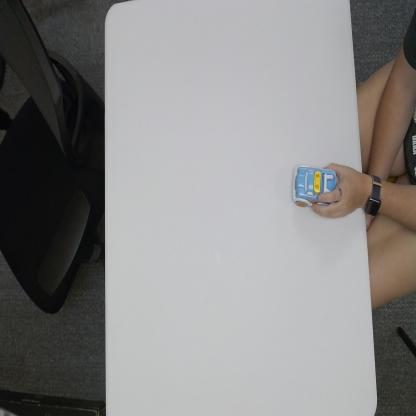Car: (292, 161, 338, 210)
Hand: (314, 162, 362, 217)
